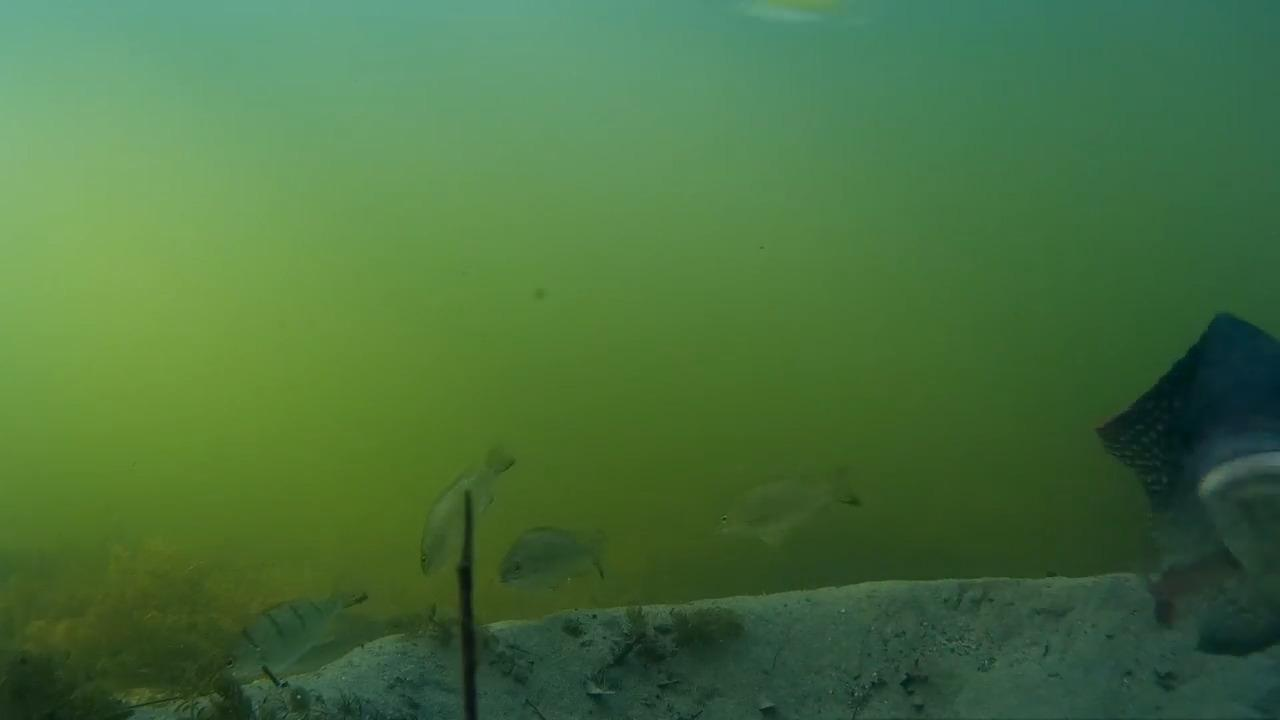Tilapia: (1087, 311, 1280, 536), (224, 585, 403, 696), (409, 430, 514, 592), (705, 465, 878, 548), (496, 512, 613, 616)
